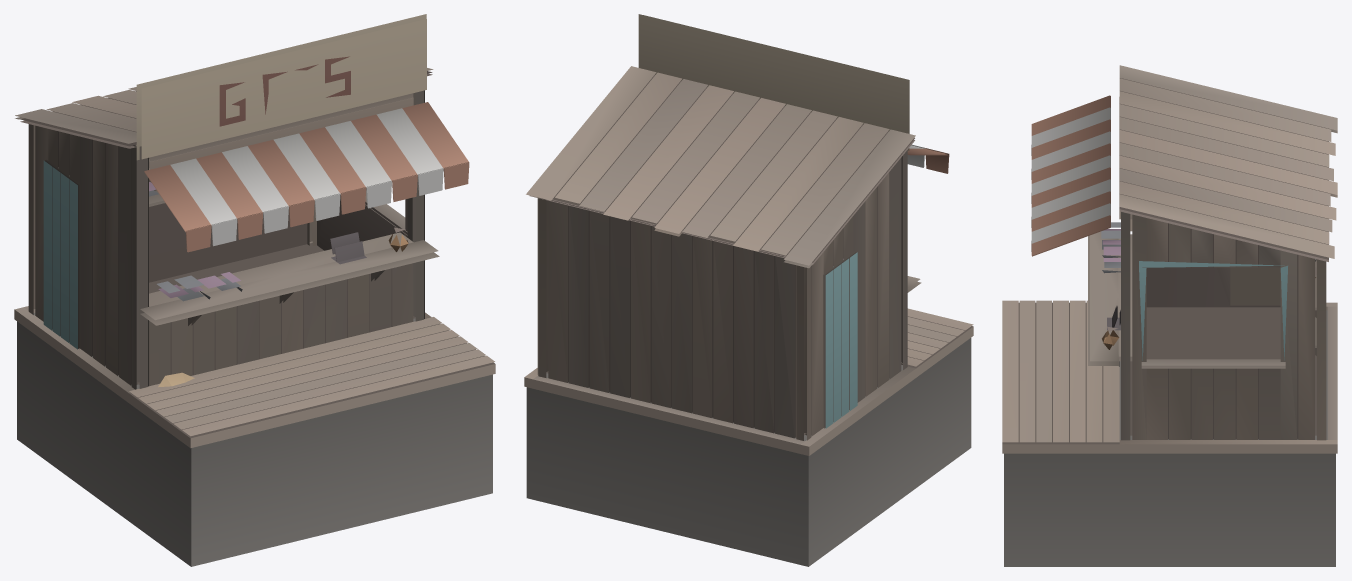
The model's file is gifts.lod.glb.
3 views of the same model, side by side, from view 1: azimuth 30°, elevation 25°; view 2: azimuth 150°, elevation 25°; view 3: azimuth 270°, elevation 25° (orthographic). The views are drawn at different scales.
Parts seen in each view (by area): view 1: gifts; view 2: gifts; view 3: gifts.
Part boxes in pixels (x1,y1,x2,y2): gifts: (14,14,495,566); gifts: (524,14,973,566); gifts: (1002,65,1337,566).
Size of the model in its own units: 4 by 5.47 by 4.
